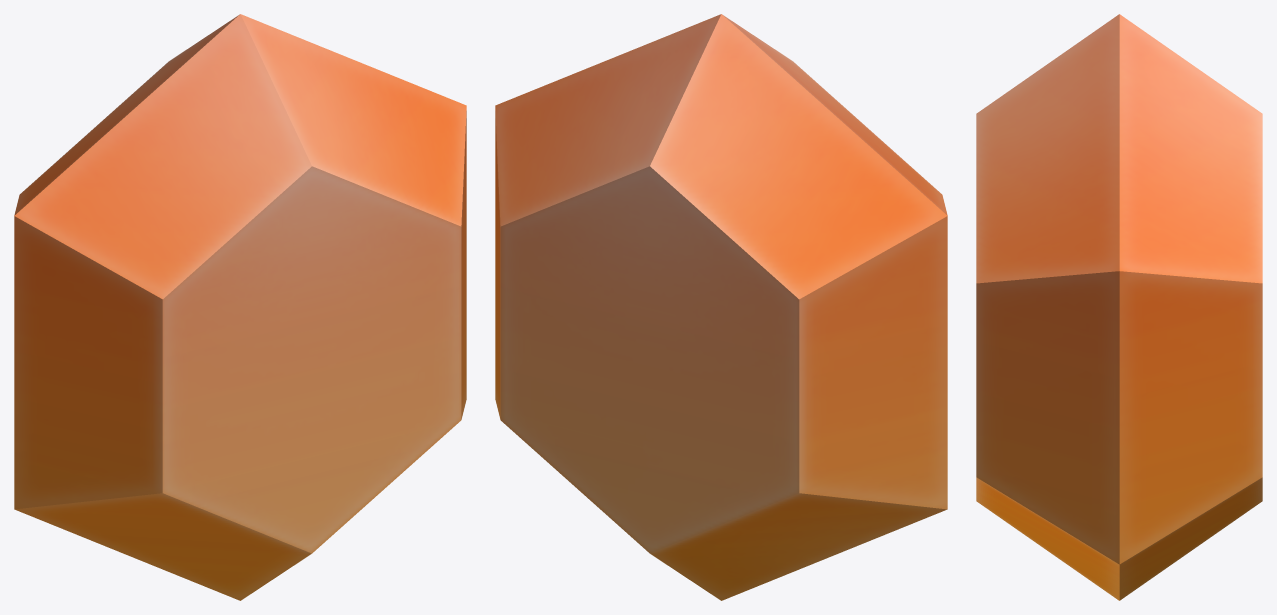
The model's file is Item1.fbx.
3 renders of one model, left to right at view 1: azimuth 30°, elevation 25°; view 2: azimuth 150°, elevation 25°; view 3: azimuth 270°, elevation 25°, orthographic.
Visible parts, largest first — view 1: Mesh; view 2: Mesh; view 3: Mesh.
Boxes of the visible parts, bbox=[...] form: Mesh: bbox=[14, 14, 466, 600]; Mesh: bbox=[495, 14, 947, 600]; Mesh: bbox=[976, 14, 1262, 600].
Size of the model in its own units: 34.26 by 42.48 by 18.79.
